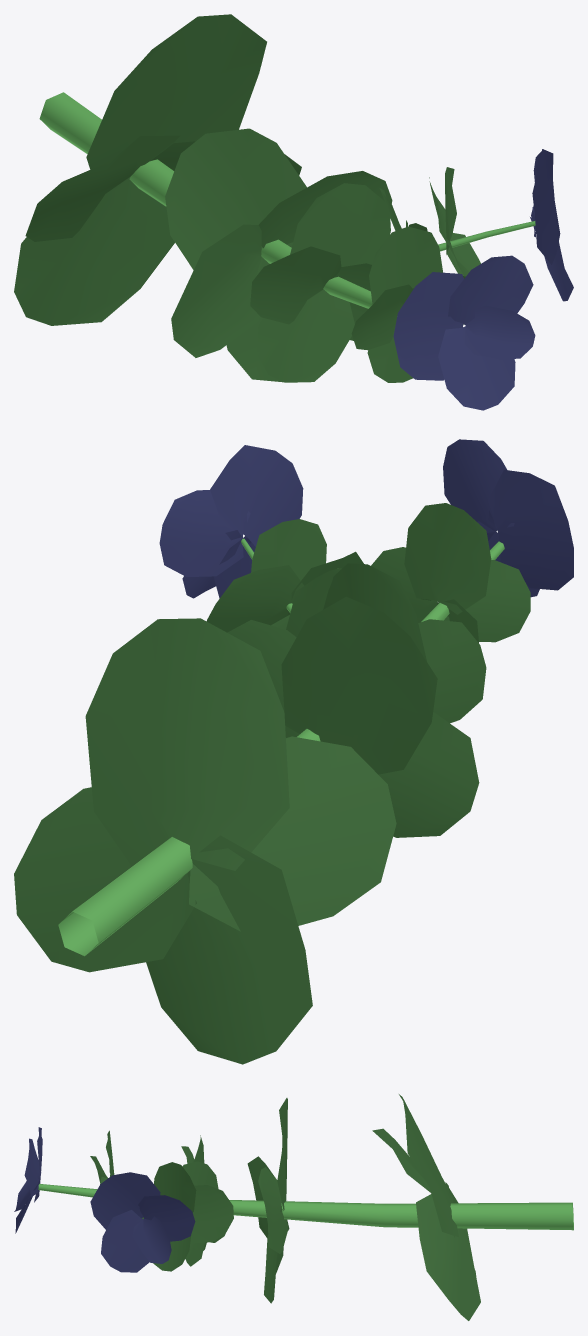
Rendered from Ereprijs_short.dae.
3 views of the same model, one above another, from view 1: azimuth 30°, elevation 25°; view 2: azimuth 150°, elevation 25°; view 3: azimuth 270°, elevation 25° (orthographic). The views are drawn at different scales.
Parts seen in each view (by area): view 1: pPlane25, pPlane27, pPlane9, pPlane12, pPlane31, pPlane29, pPlane28, pPlane5, polySurface1, pPlane32, pPlane8, pPlane6 (+13 smaller); view 2: pPlane25, pPlane27, pPlane9, pPlane28, pPlane26, pPlane12, pPlane5, pPlane21, polySurface1, pPlane1, pPlane2, pPlane32 (+9 smaller); view 3: polySurface1, pPlane26, pPlane1, pPlane25, pPlane4, pPlane17, pPlane2, pPlane10, pPlane3, pPlane20, pPlane9, pPlane28 (+6 smaller).
Part boxes in pixels (x1,y1,x2,y2): pPlane25: (86, 14, 266, 169); pPlane27: (14, 176, 174, 325); pPlane9: (165, 128, 306, 269); pPlane12: (171, 224, 261, 357); pPlane31: (256, 289, 354, 382); pPlane29: (290, 183, 390, 266); pPlane28: (25, 135, 180, 241); pPlane5: (393, 272, 463, 380); polySurface1: (39, 92, 397, 316); pPlane32: (250, 246, 341, 324); pPlane8: (438, 326, 515, 410); pPlane6: (448, 255, 533, 324); pPlane25: (85, 618, 289, 870); pPlane27: (146, 835, 312, 1064); pPlane9: (281, 596, 437, 774); pPlane28: (189, 736, 396, 931); pPlane26: (14, 787, 196, 972); pPlane12: (378, 712, 479, 837); pPlane5: (488, 469, 573, 590); pPlane21: (404, 503, 491, 614); polySurface1: (58, 541, 504, 956); pPlane1: (210, 445, 303, 546); pPlane2: (159, 490, 250, 576); pPlane32: (418, 619, 486, 723); polySurface1: (38, 1183, 573, 1230); pPlane26: (416, 1194, 480, 1320); pPlane1: (90, 1172, 160, 1229); pPlane25: (399, 1094, 458, 1237); pPlane4: (101, 1210, 149, 1272); pPlane17: (190, 1185, 233, 1243); pPlane2: (138, 1195, 195, 1241); pPlane10: (258, 1167, 288, 1253); pPlane3: (132, 1216, 171, 1263); pPlane20: (154, 1162, 196, 1212); pPlane9: (277, 1098, 287, 1210); pPlane28: (372, 1128, 430, 1192).
Bounding box in the file's own units: 12.48 × 11.2 × 24.92.
